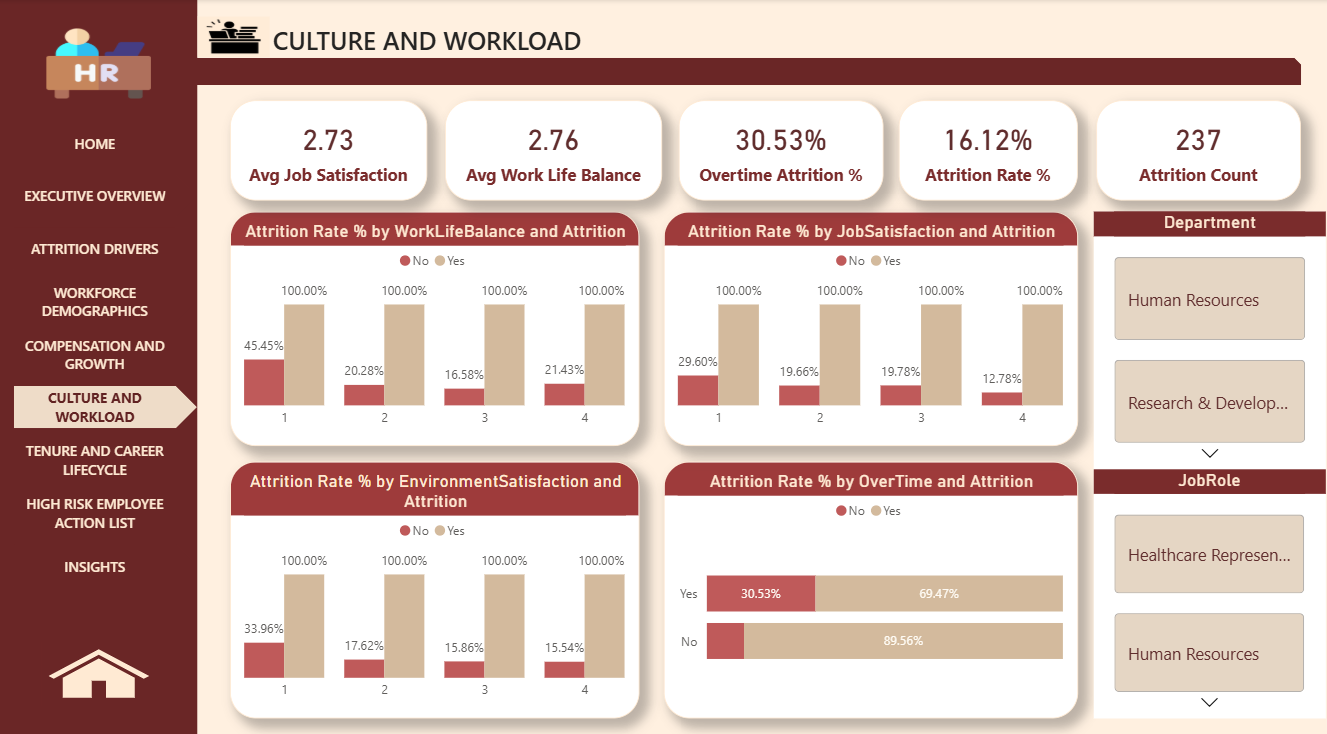

The page's visual inventory and layout, read from the dashboard file:
{"tool":"powerbi","page":{"name":"CULTURE AND WORKLOAD","canvas":[1280,720],"ordinal":5},"visuals":[{"type":"clusteredColumnChart","fields":{"Category":["Attrition.WorkLifeBalance"],"Series":["Attrition.Attrition"],"Y":["Attrition.Attrition Rate %"]},"box":[222.2,204.9,395.3,226.5],"z":0},{"type":"clusteredColumnChart","fields":{"Series":["Attrition.Attrition"],"Category":["Attrition.JobSatisfaction"],"Y":["Attrition.Attrition Rate %"]},"box":[640.6,204.9,399.6,226.5],"z":1000},{"type":"clusteredColumnChart","fields":{"Category":["Attrition.EnvironmentSatisfaction"],"Series":["Attrition.Attrition"],"Y":["Attrition.Attrition Rate %"]},"box":[222.2,445.8,395.3,248.2],"z":2000},{"type":"hundredPercentStackedBarChart","fields":{"Category":["Attrition.OverTime"],"Series":["Attrition.Attrition"],"Y":["Attrition.Attrition Rate %"]},"box":[640.6,445.8,399.6,248.2],"z":3000},{"type":"shape","box":[0,0,190.4,720.8],"z":4000},{"type":"shape","box":[0,56.7,1255.9,26.5],"z":5000},{"type":"textbox","box":[180.3,18.8,464.6,50.5],"z":6000},{"type":"card","fields":{"Values":["Attrition.Avg Job Satisfaction"]},"box":[222,97.7,190.6,96.5],"z":7000},{"type":"card","fields":{"Values":["Attrition.Avg Work Life Balance"]},"box":[429.5,97.7,209.9,96.5],"z":8000},{"type":"card","fields":{"Values":["Attrition.Overtime Attrition %"]},"box":[655.1,97.7,197.9,96.5],"z":9000},{"type":"card","fields":{"Values":["Attrition.Attrition Rate %"]},"box":[867.4,97.7,172.5,96.5],"z":10000},{"type":"card","fields":{"Values":["Attrition.Attrition Count"]},"box":[1058,97.7,197.9,96.5],"z":11000},{"type":"advancedSlicerVisual","fields":{"Values":["Attrition.JobRole"]},"box":[1056.1,453,223.6,240.9],"z":12000},{"type":"advancedSlicerVisual","fields":{"Values":["Attrition.Department"]},"box":[1055.6,205.1,224.4,248.5],"z":13000},{"type":"pageNavigator","box":[13,118.3,177.5,455.9],"z":15000},{"type":"image","box":[27.4,26,134.2,72.1],"z":15001},{"type":"image","box":[190.4,17.3,69.3,39],"z":15002},{"type":"image","box":[40.4,618.9,111.1,63.5],"z":15003}]}

Visuals, with their boxes in screenshot pixels (x1, y1, x2, y2), scaled from the page's 1280x720 canvas onto the 1327x734 screenshot:
clusteredColumnChart - Attrition.WorkLifeBalance x Attrition.Attrition: 230/209/640/440
clusteredColumnChart - Attrition.Attrition x Attrition.JobSatisfaction: 664/209/1078/440
clusteredColumnChart - Attrition.EnvironmentSatisfaction x Attrition.Attrition: 230/454/640/707
hundredPercentStackedBarChart - Attrition.OverTime x Attrition.Attrition: 664/454/1078/707
shape: 0/0/197/733
shape: 0/58/1302/85
textbox: 187/19/669/71
card - Attrition.Avg Job Satisfaction: 230/100/428/198
card - Attrition.Avg Work Life Balance: 445/100/663/198
card - Attrition.Overtime Attrition %: 679/100/884/198
card - Attrition.Attrition Rate %: 899/100/1078/198
card - Attrition.Attrition Count: 1097/100/1302/198
advancedSlicerVisual - Attrition.JobRole: 1095/462/1326/707
advancedSlicerVisual - Attrition.Department: 1094/209/1326/462
pageNavigator: 13/121/197/585
image: 28/27/168/100
image: 197/18/269/57
image: 42/631/157/696
